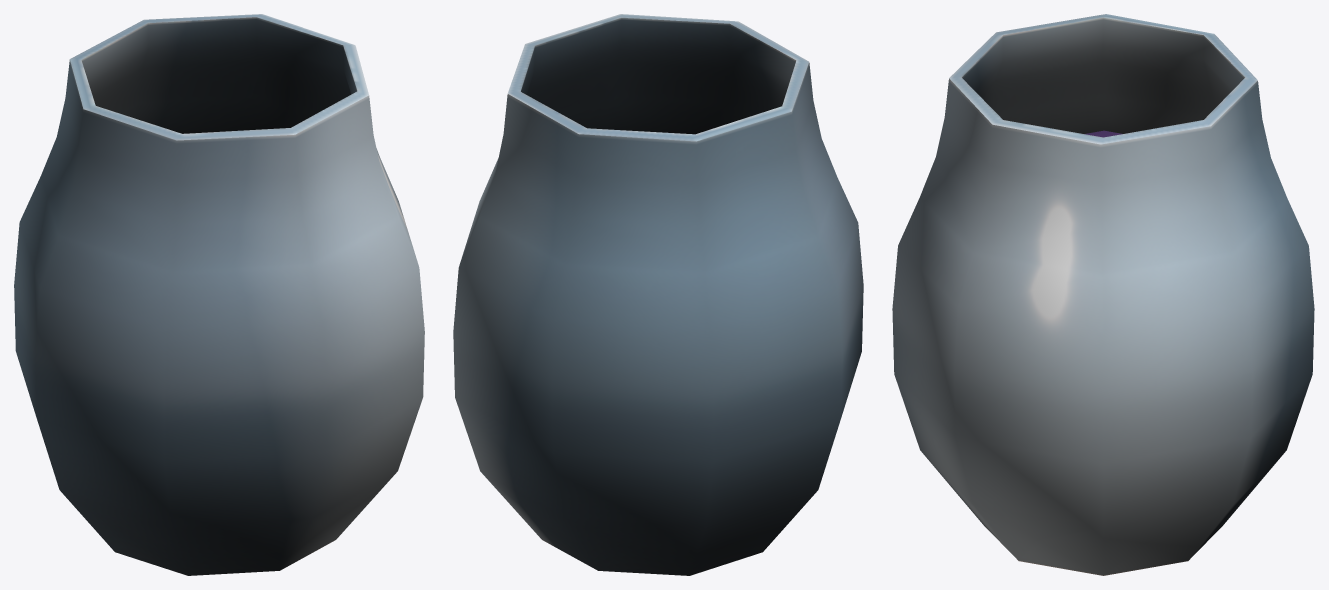
File: Bachbluetenzauber_Cokctail.glb
3 views of the same model, side by side, from view 1: azimuth 30°, elevation 25°; view 2: azimuth 150°, elevation 25°; view 3: azimuth 270°, elevation 25° (orthographic).
Parts seen in each view (by area): view 1: CocktailGlass.009; view 2: CocktailGlass.009; view 3: CocktailGlass.009.
Boxes of the visible parts, box(x1,y1,x2,y2) form: CocktailGlass.009: box(14, 14, 424, 575); CocktailGlass.009: box(453, 14, 863, 575); CocktailGlass.009: box(892, 14, 1314, 575).
Bounding box in the file's own units: 0.0606 × 0.071 × 0.0606.
2 materials, 2 textured.
